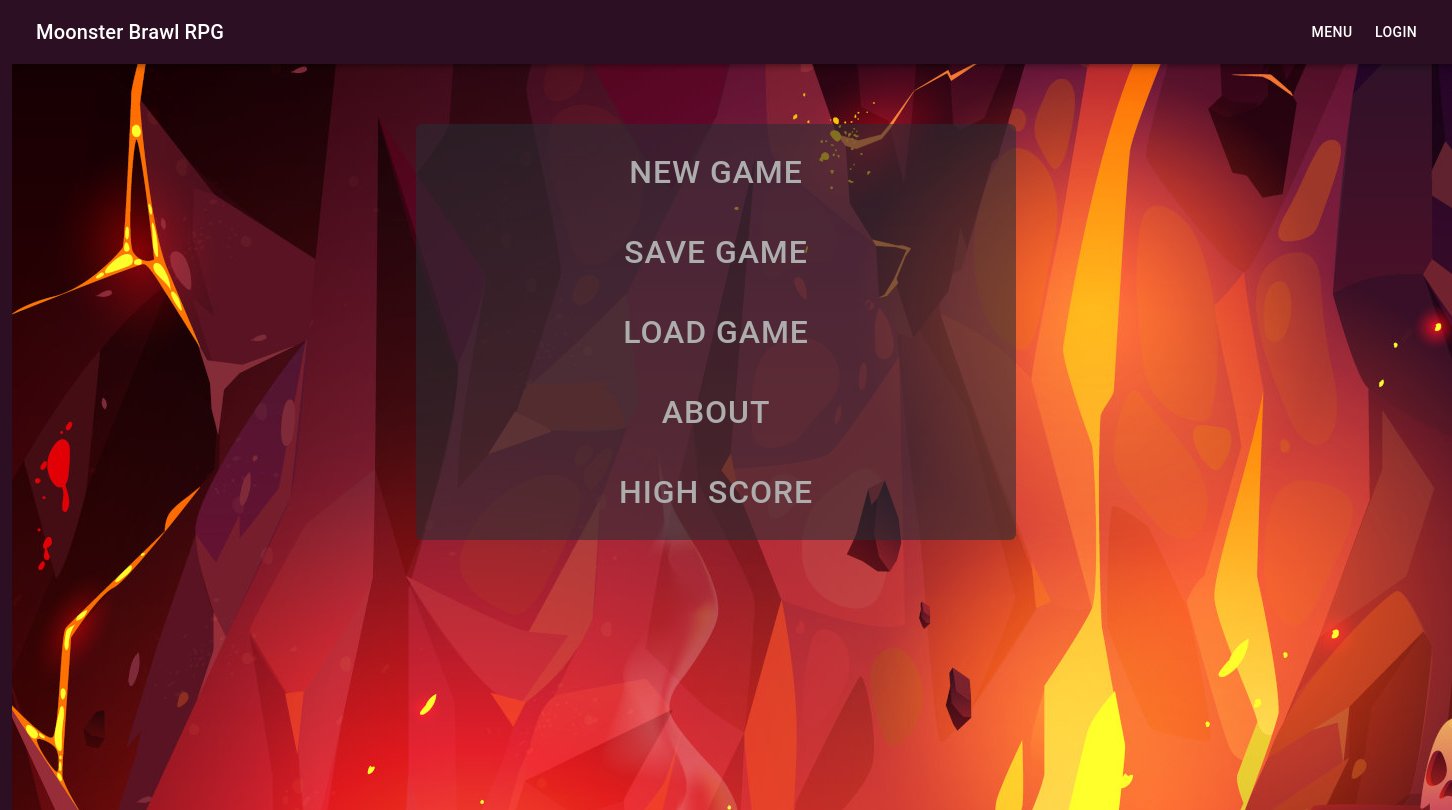
Test case: App › opens the shop when starting a new game
Click the button "New Game". click: coordinates (716, 172)
box: [621,138,811,206]
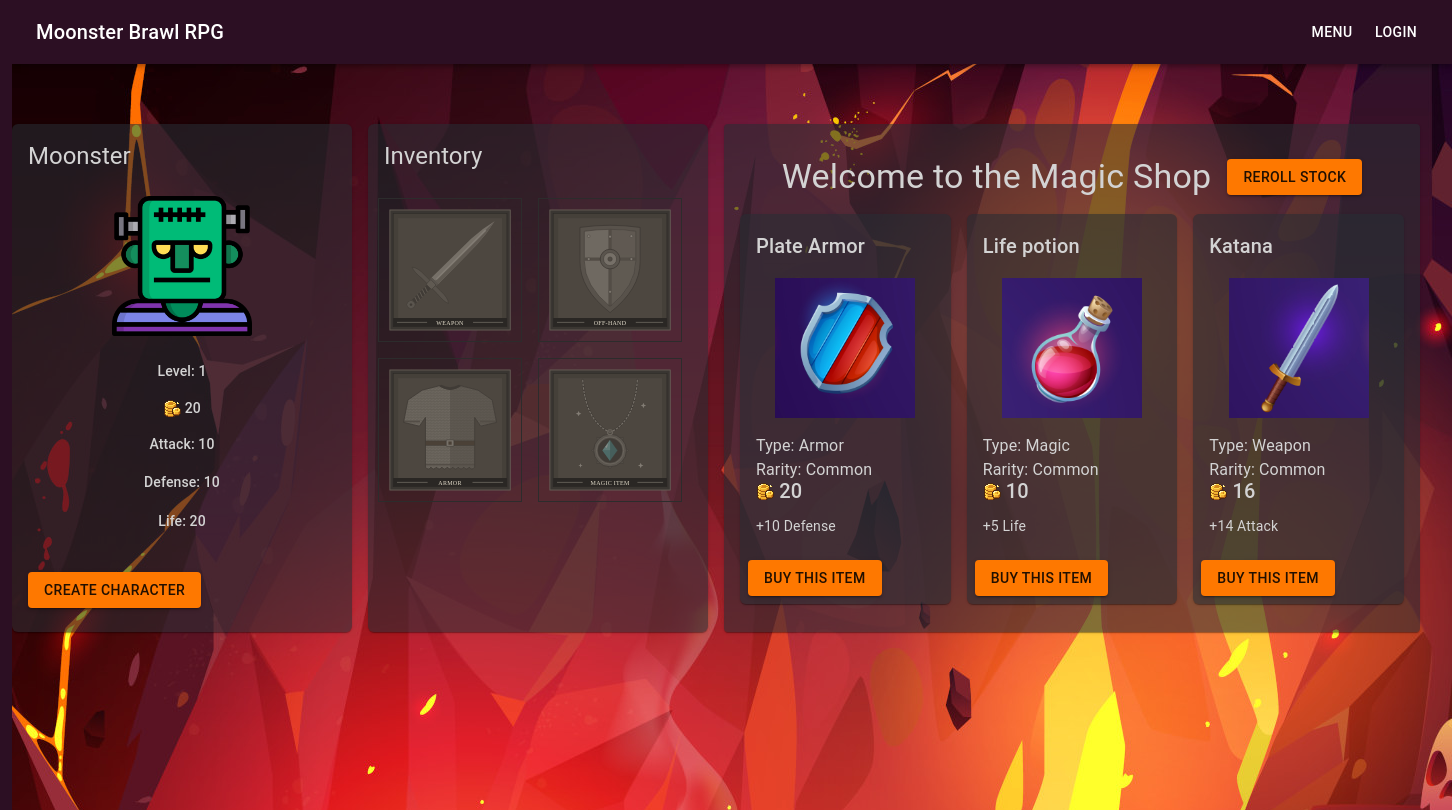
Result: the heading "Welcome to the Magic Shop" is shown at [782,156,1212,198]
Result: the text "Inventory" is shown at [384,142,482,170]
